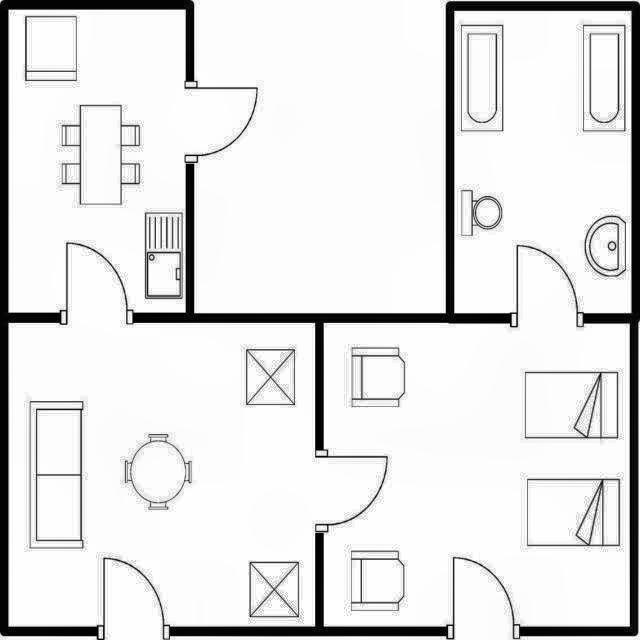room: (9, 322, 314, 626), (323, 324, 630, 626), (9, 11, 186, 312), (455, 10, 629, 312)
